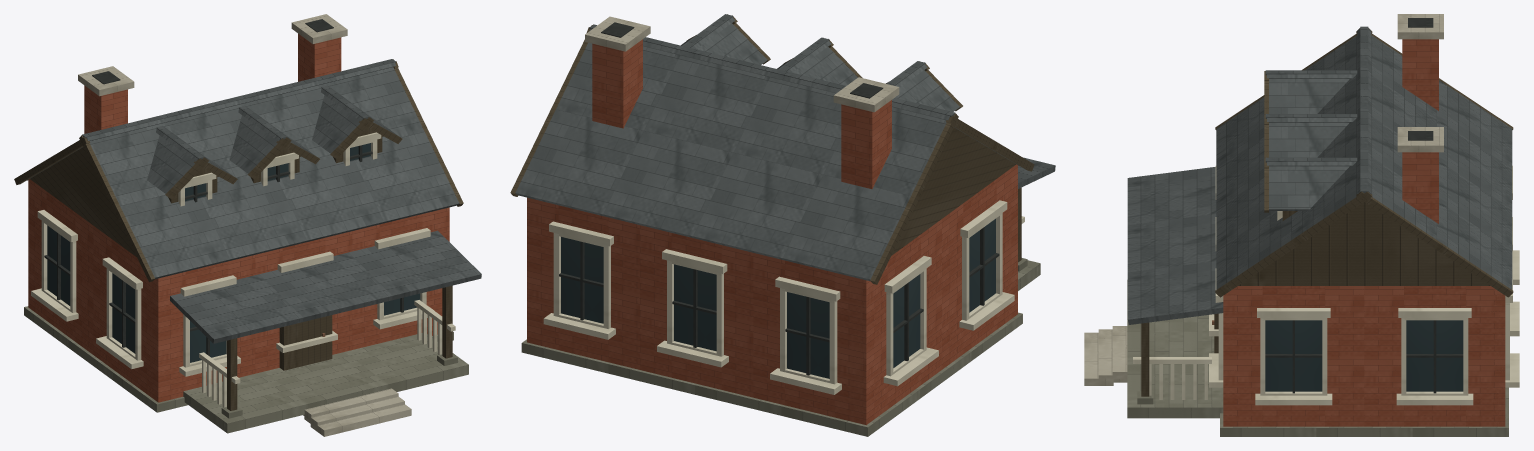
The model's file is suburb-cottage.glb.
3 views of the same model, side by side, from view 1: azimuth 30°, elevation 25°; view 2: azimuth 150°, elevation 25°; view 3: azimuth 270°, elevation 25° (orthographic). The views are drawn at different scales.
Visible parts, largest first — view 1: suburb-cottage.001; view 2: suburb-cottage.001; view 3: suburb-cottage.001.
Boxes of the visible parts, <box> form: suburb-cottage.001: <box>14,14,481,436</box>; suburb-cottage.001: <box>510,14,1055,436</box>; suburb-cottage.001: <box>1084,14,1519,436</box>.
Bounding box in the file's own units: 6.81 × 5.4 × 7.5.
Materials: 1 (1 with a texture image).
